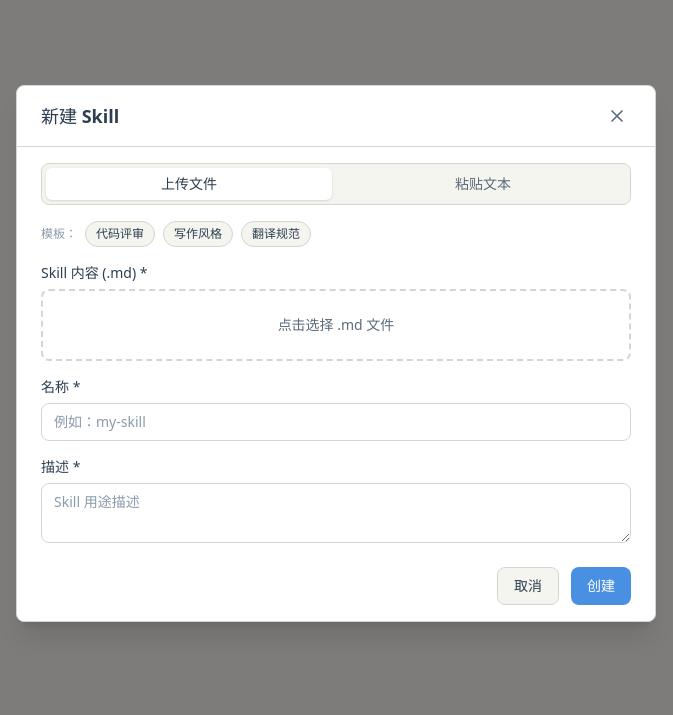
Test: SkillFormModal edit mode › create mode: template chip fills paste content and frontmatter fields
Click the button "代码评审". click: (120, 234)
box: [85,220,155,246]
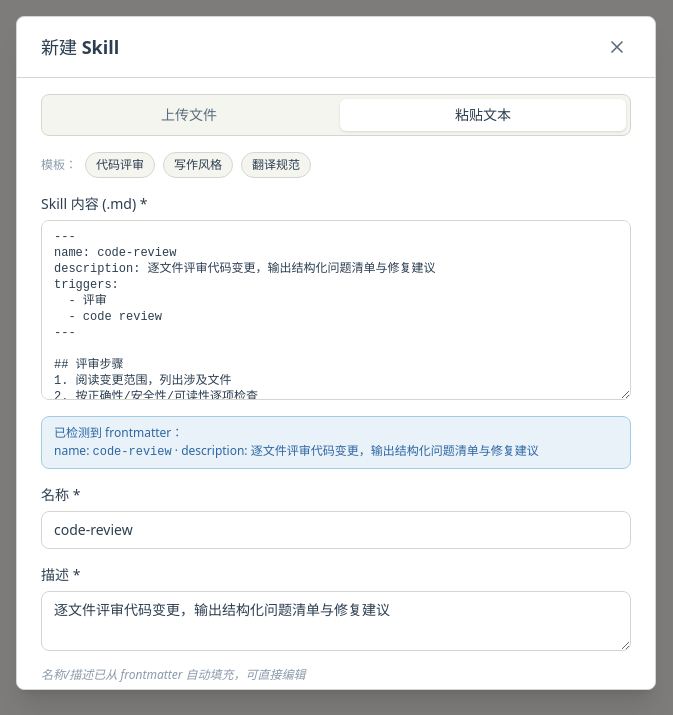
Expected: the field showing "code-review" holds "code-review", [41,511,631,549]
